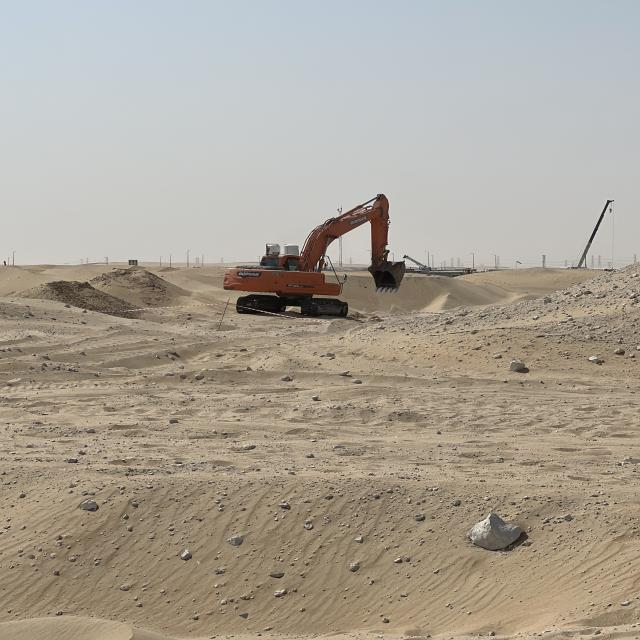excavator: (220, 187, 406, 320)
